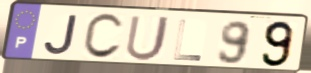9: (258, 19, 298, 69), (216, 19, 253, 65)
C: (81, 12, 126, 61)
J: (42, 14, 80, 57)
L: (171, 18, 204, 63)
U: (123, 14, 173, 63)
